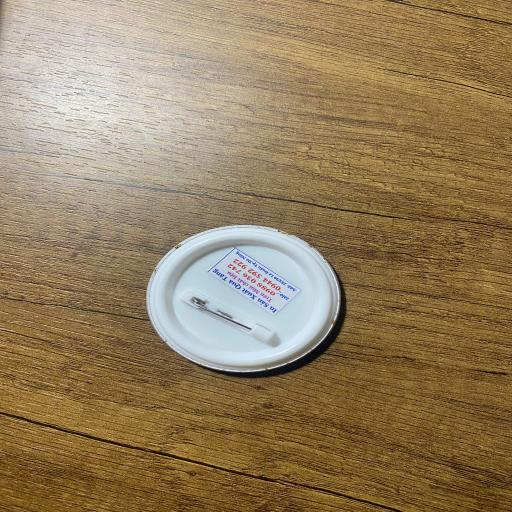HH: (142, 225, 344, 373)
